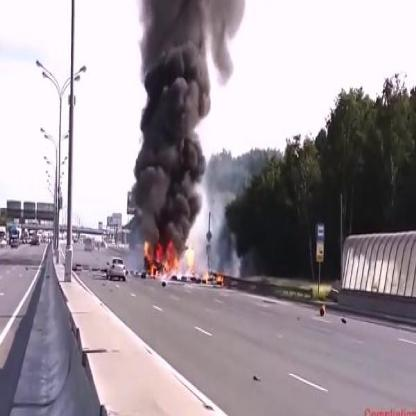fire: (142, 233, 198, 282), (201, 268, 224, 288)
